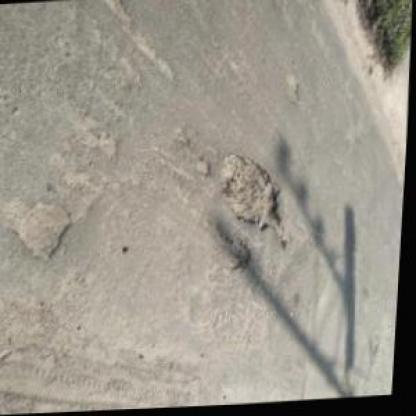pothole: (215, 148, 295, 252), (2, 193, 76, 266), (215, 230, 256, 275), (97, 0, 133, 26), (282, 74, 304, 110)
